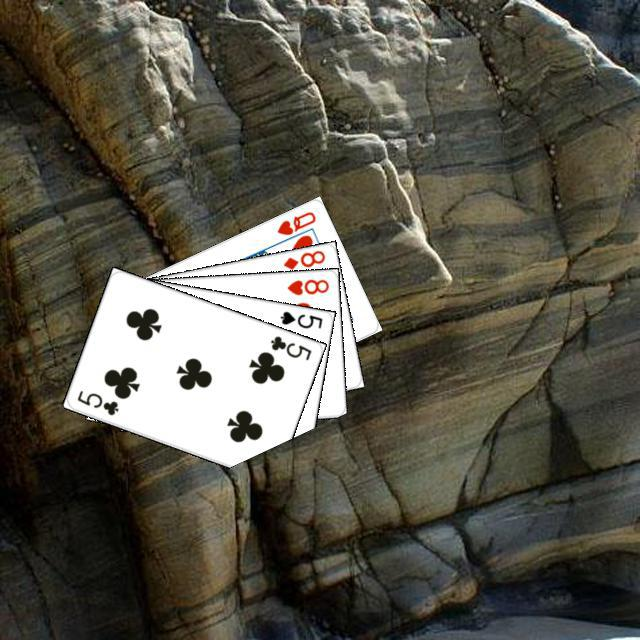5c: (72, 385, 120, 417), (265, 331, 313, 362)
5s: (275, 306, 324, 330)
8d: (278, 245, 327, 271)
8h: (282, 274, 331, 297)
Qh: (272, 207, 317, 237)
